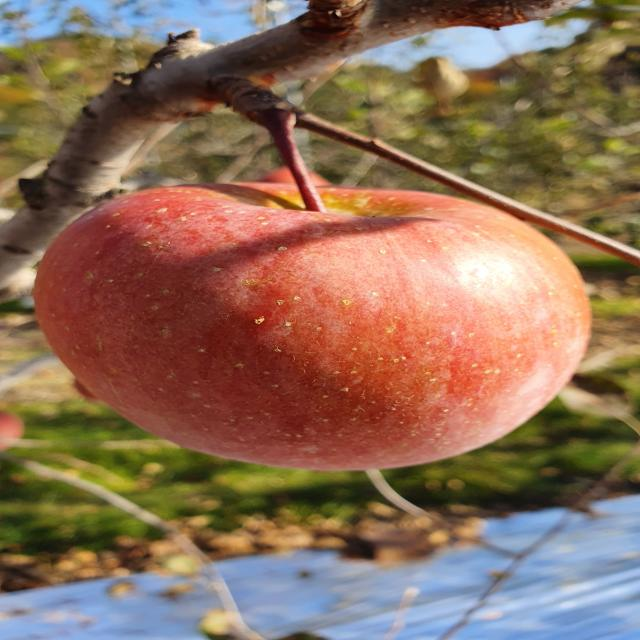fresh: (24, 173, 609, 474)
